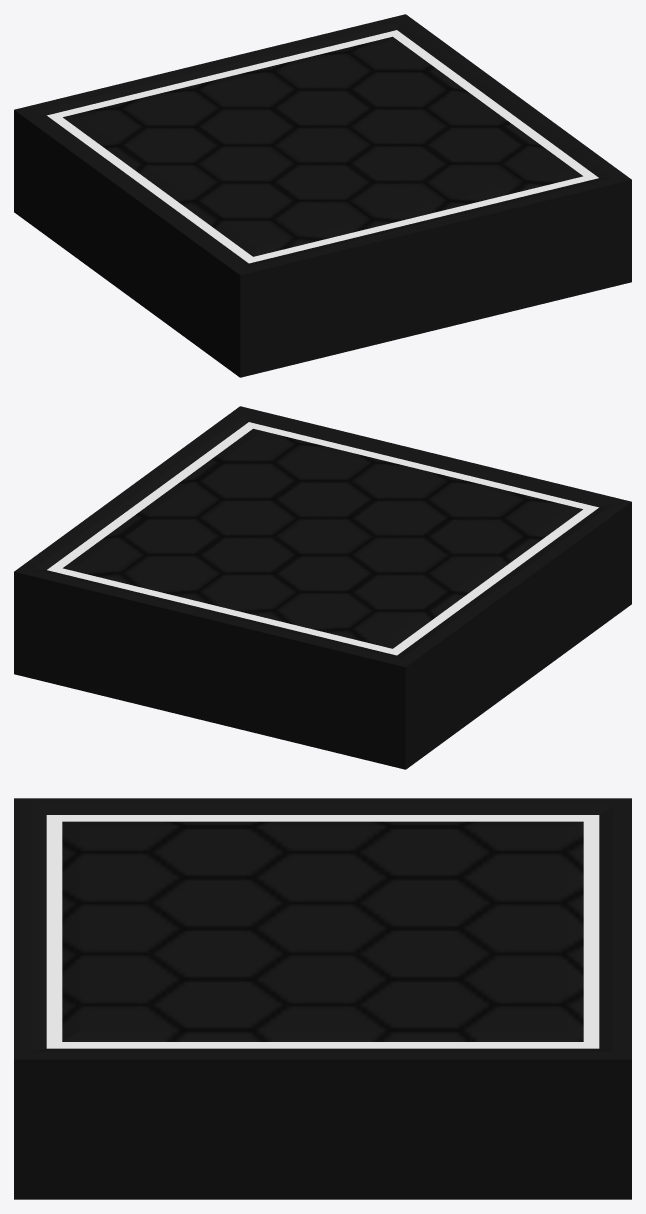
Rendered from Tile 1E4.fbx.
The picture shows the model from 3 angles, top to bottom: view 1: azimuth 30°, elevation 25°; view 2: azimuth 150°, elevation 25°; view 3: azimuth 270°, elevation 25°; orthographic projection. The views are drawn at different scales.
Visible parts, largest first — view 1: pCube138; view 2: pCube138; view 3: pCube138.
Boxes of the visible parts, left/top/right/bottom form: pCube138: left=14, top=14, right=631, bottom=377; pCube138: left=14, top=406, right=631, bottom=769; pCube138: left=14, top=798, right=631, bottom=1199.
Size of the model in its own units: 4 by 1 by 4.
